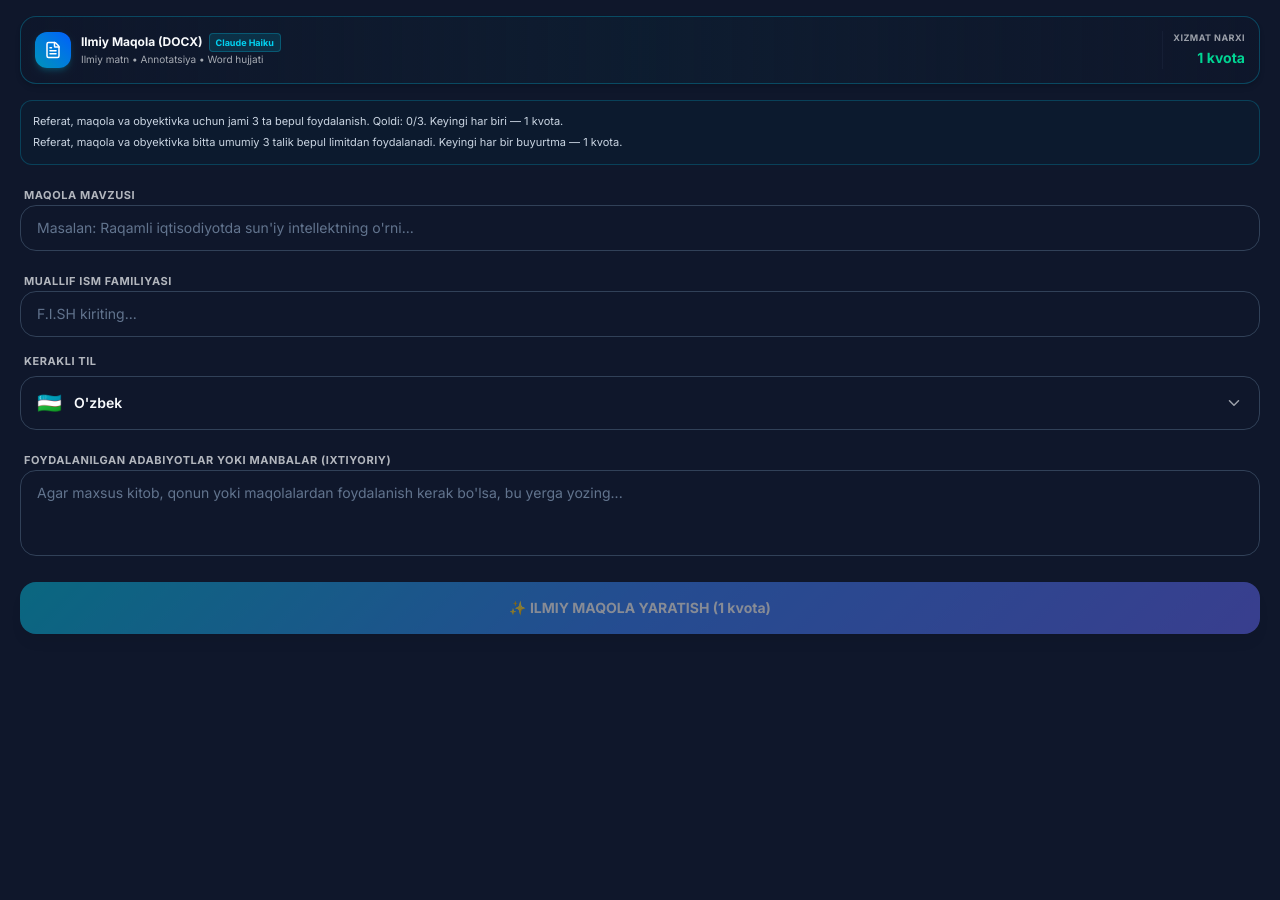
Test: Shared Standard allowance in the existing frontend › blocks unknown and exhausted accounts even when an admin flag is passed
This screenshot has width=1280, height=900.
Expected: the button "✨ ILMIY MAQOLA YARATISH (1 kvota)" is disabled, [20,582,1260,634]
Type "Savod orgatish metodlari" into the field with placeholder "Masalan: Raqamli" at x=640, y=228, box [20,205,1260,251]
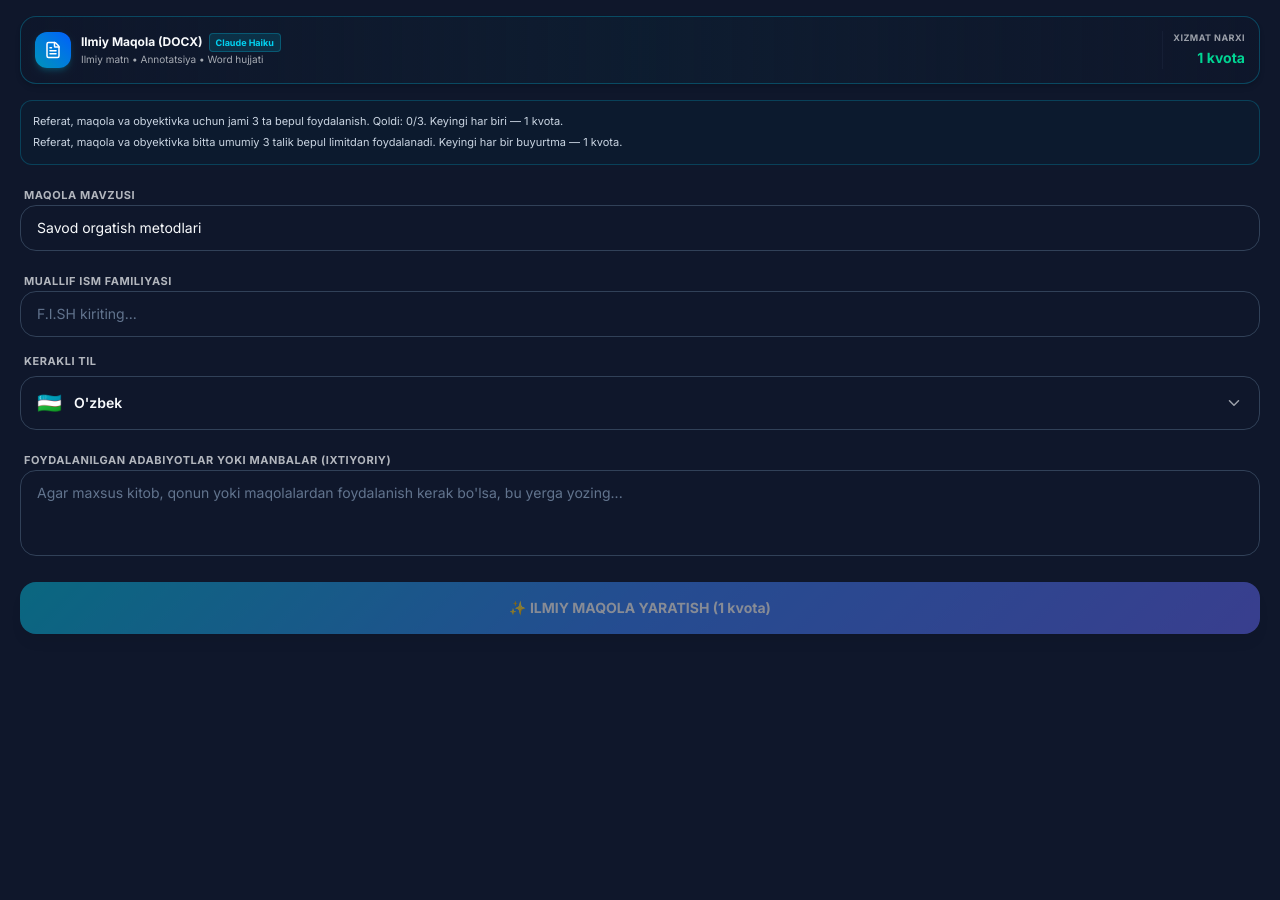
Type "Test Author" into the field with placeholder "F.I.SH kiriting..." at x=640, y=314, box [20,291,1260,337]
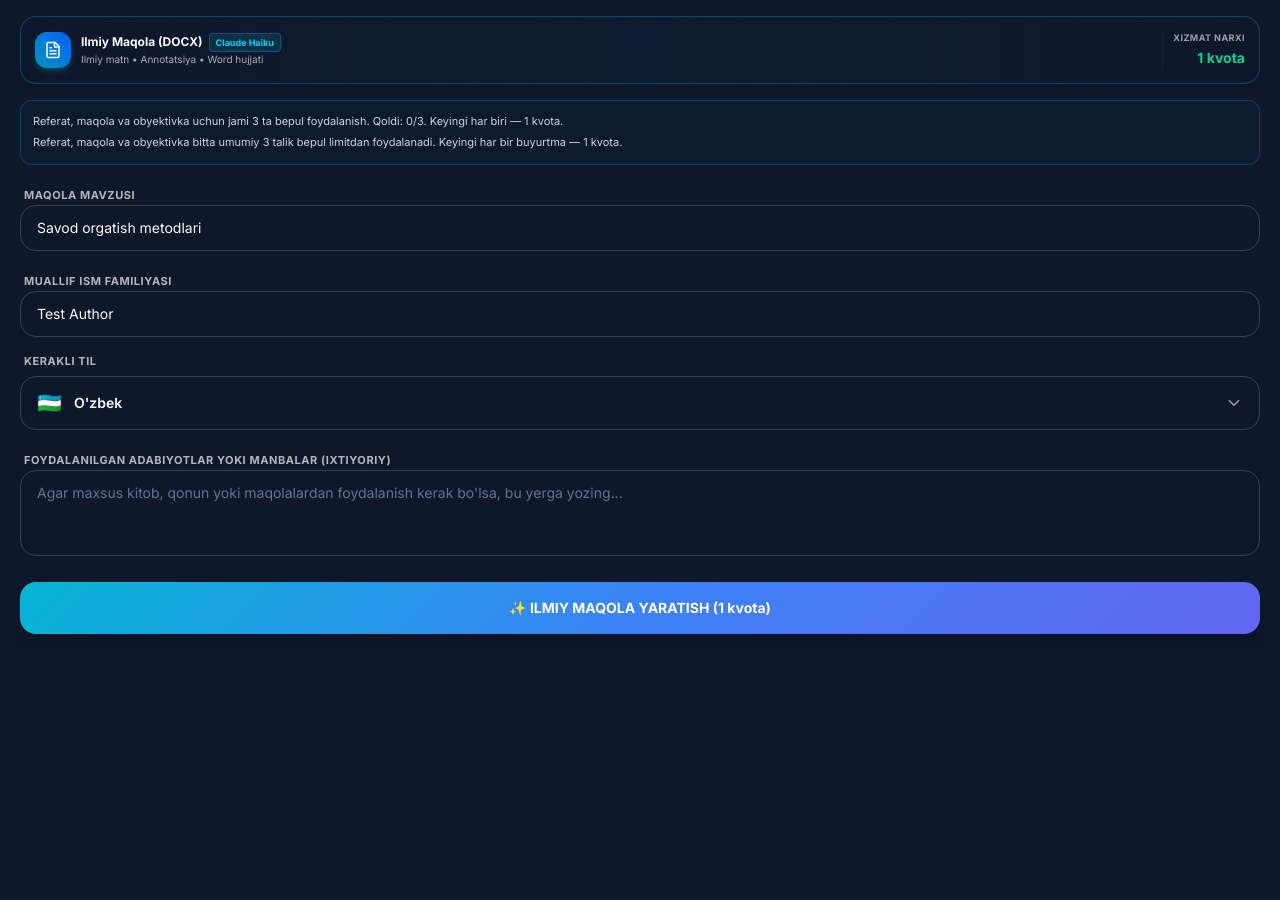
Expected: the button "✨ ILMIY MAQOLA YARATISH (1 kvota)" is enabled, [20,582,1260,634]
